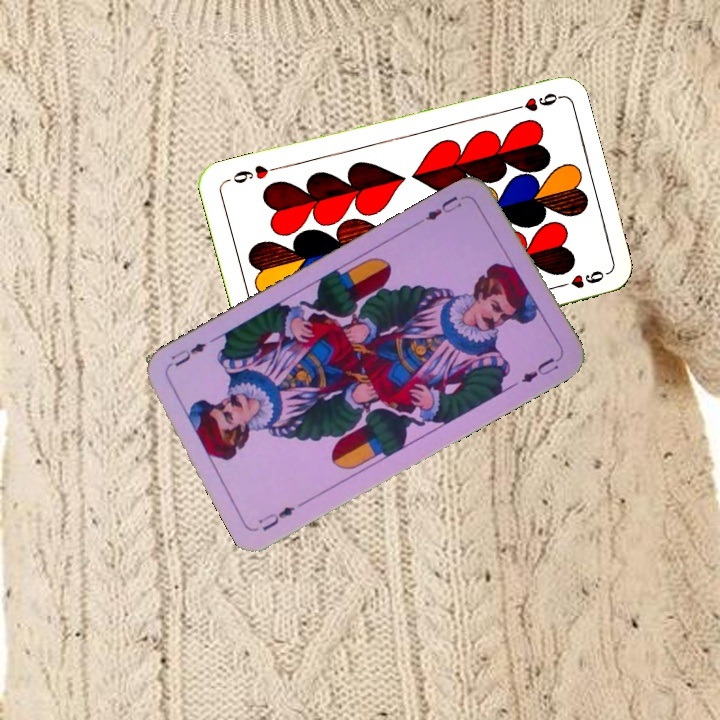EU: (421, 191, 470, 223), (254, 502, 298, 534)
H9: (503, 89, 561, 115)
